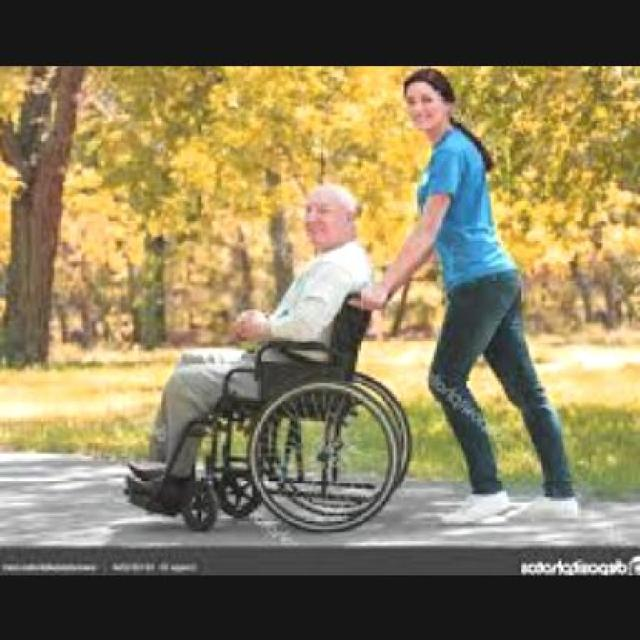wheelchairs: (106, 256, 436, 544)
